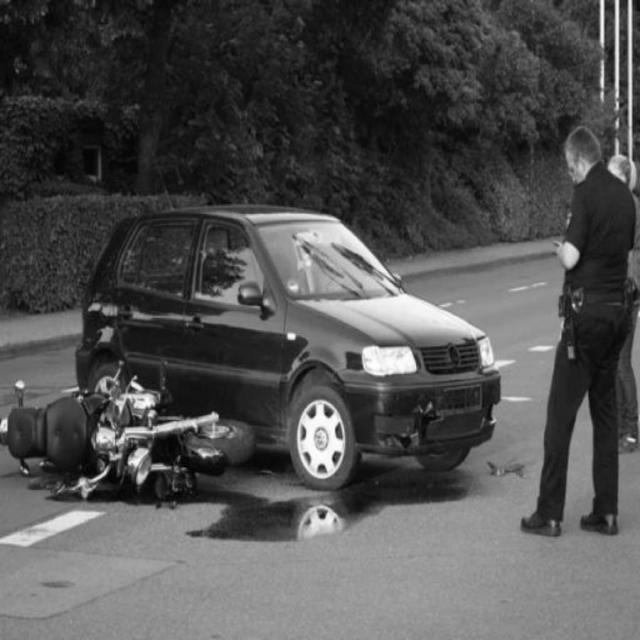accident: (6, 224, 506, 524)
person: (521, 122, 635, 542)
